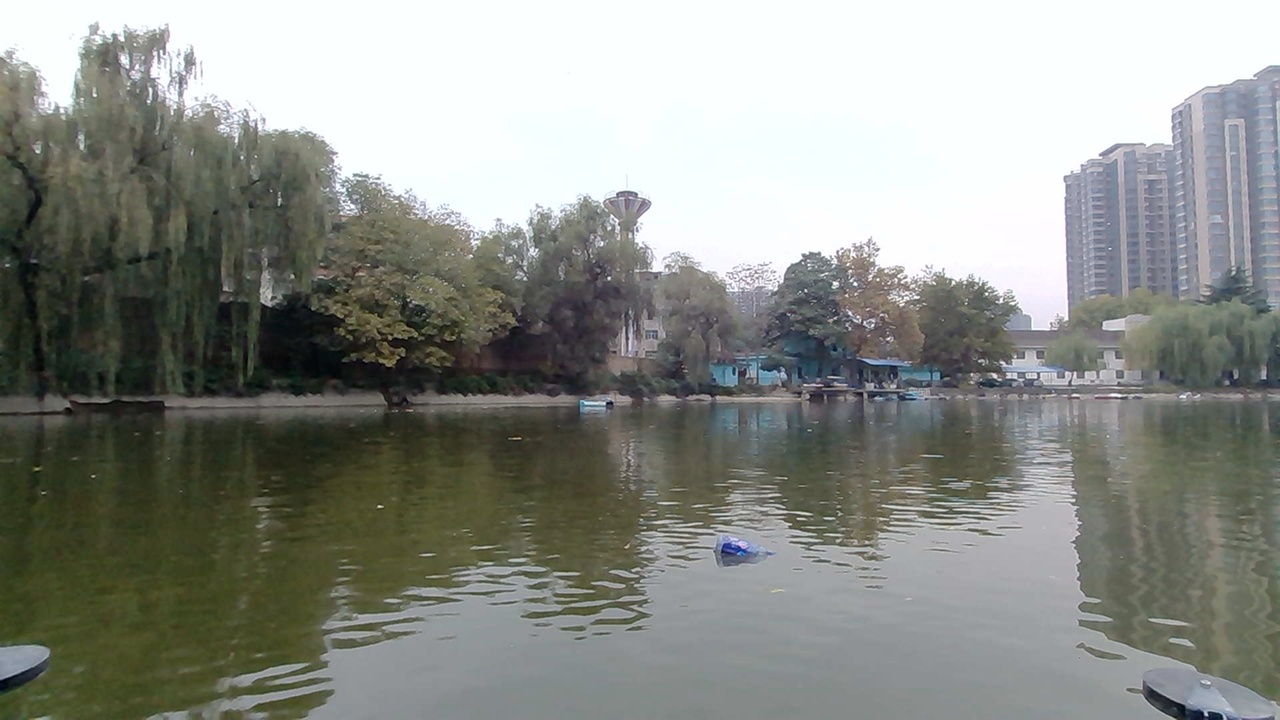bottle: (718, 536, 763, 570)
